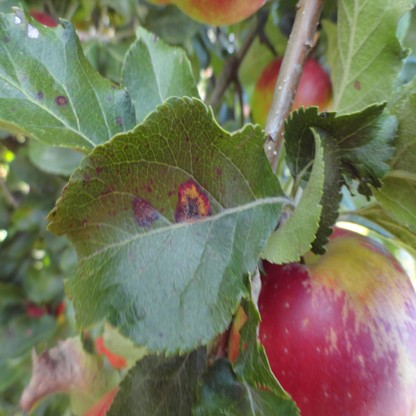rust: (176, 180, 211, 222), (132, 197, 157, 224), (55, 95, 66, 107)
